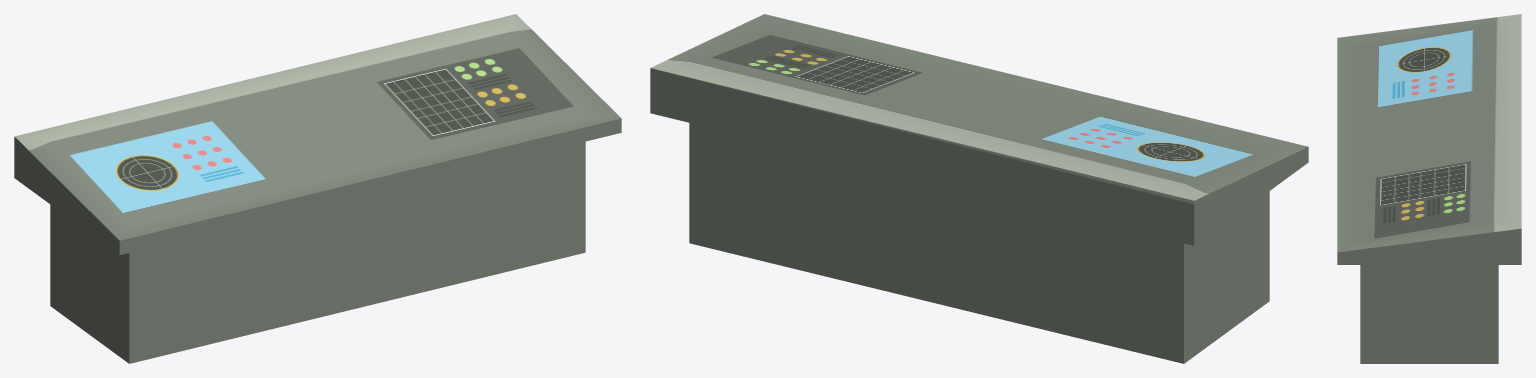
Rendered from controldesk.gltf.
The picture shows the model from 3 angles, left to right: view 1: azimuth 30°, elevation 25°; view 2: azimuth 150°, elevation 25°; view 3: azimuth 270°, elevation 25°; orthographic projection. The views are drawn at different scales.
Parts seen in each view (by area): view 1: controlDesk; view 2: controlDesk; view 3: controlDesk.
Part boxes in pixels (bbox=[...]): controlDesk: bbox=[14, 14, 621, 363]; controlDesk: bbox=[650, 14, 1308, 363]; controlDesk: bbox=[1337, 14, 1521, 363].
Bounding box in the file's own units: 5.5 × 1.73 × 2.
Materials: 1 (1 with a texture image).
